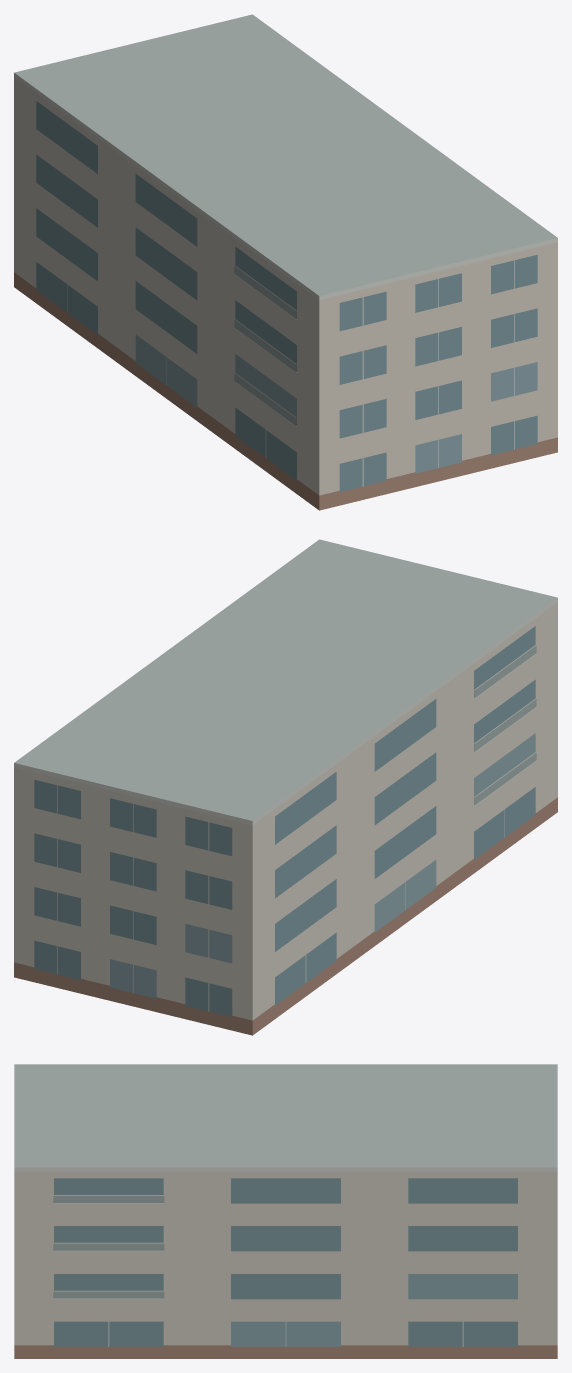
Rendered from residential-fba6f872-6de8-496b-bf84-1115e854f9fe.glb.
The picture shows the model from 3 angles, top to bottom: view 1: azimuth 30°, elevation 25°; view 2: azimuth 150°, elevation 25°; view 3: azimuth 270°, elevation 25°; orthographic projection. The views are drawn at different scales.
Visible parts, largest first — view 1: residential-fba6f872-6de8-496b-bf84-1115e854f9fe.tmp; view 2: residential-fba6f872-6de8-496b-bf84-1115e854f9fe.tmp; view 3: residential-fba6f872-6de8-496b-bf84-1115e854f9fe.tmp.
Boxes of the visible parts, box(x1,y1,x2,y2) form: residential-fba6f872-6de8-496b-bf84-1115e854f9fe.tmp: box(14, 14, 557, 510); residential-fba6f872-6de8-496b-bf84-1115e854f9fe.tmp: box(14, 539, 557, 1035); residential-fba6f872-6de8-496b-bf84-1115e854f9fe.tmp: box(14, 1064, 557, 1358).
Bounding box in the file's own units: 14.28 × 12.2 × 31.49.
